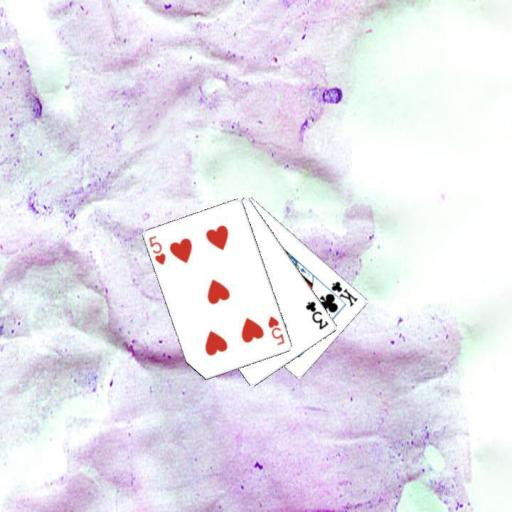3C: (303, 298, 330, 331)
5H: (265, 313, 287, 347), (146, 233, 167, 267)
KC: (322, 278, 359, 308)
